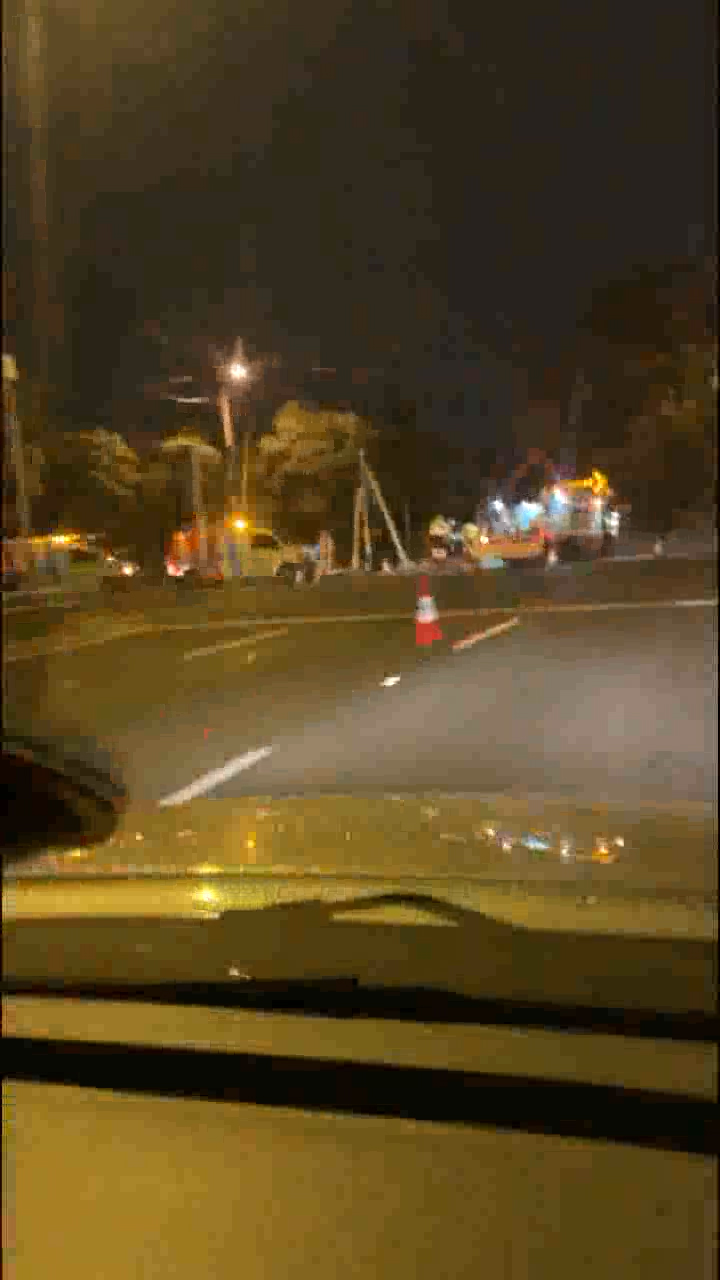person: (424, 513, 458, 550)
road cone: (410, 575, 445, 655)
truck: (474, 504, 622, 567)
van: (170, 525, 322, 584), (1, 546, 141, 592)
